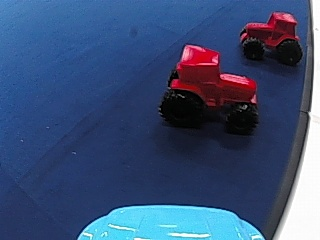tractor: (162, 41, 263, 134), (237, 10, 305, 64)
